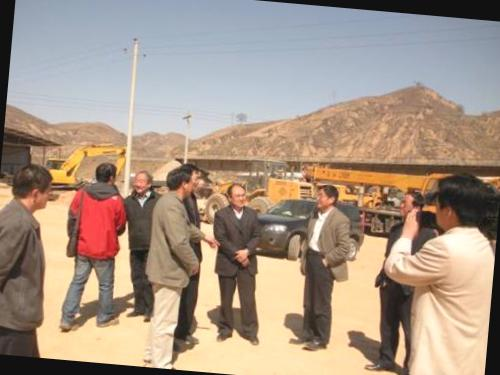no_helmet: (428, 169, 495, 242), (7, 160, 53, 214), (396, 187, 426, 227), (311, 178, 342, 212), (91, 160, 121, 192), (165, 167, 194, 200), (128, 169, 157, 202), (224, 178, 250, 209), (183, 162, 204, 194)
